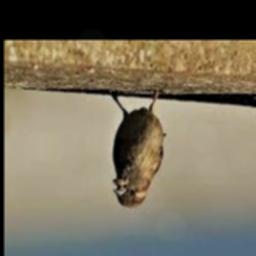Sparrow: (109, 91, 166, 209)
